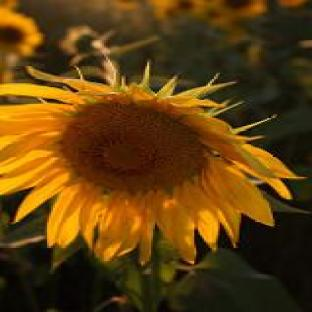sunflower: (0, 68, 306, 267)
